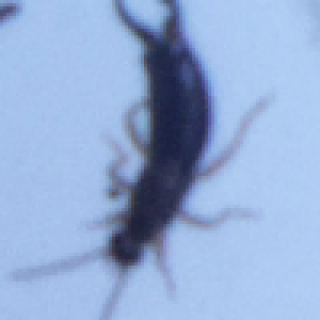earwig: (14, 0, 277, 320)
